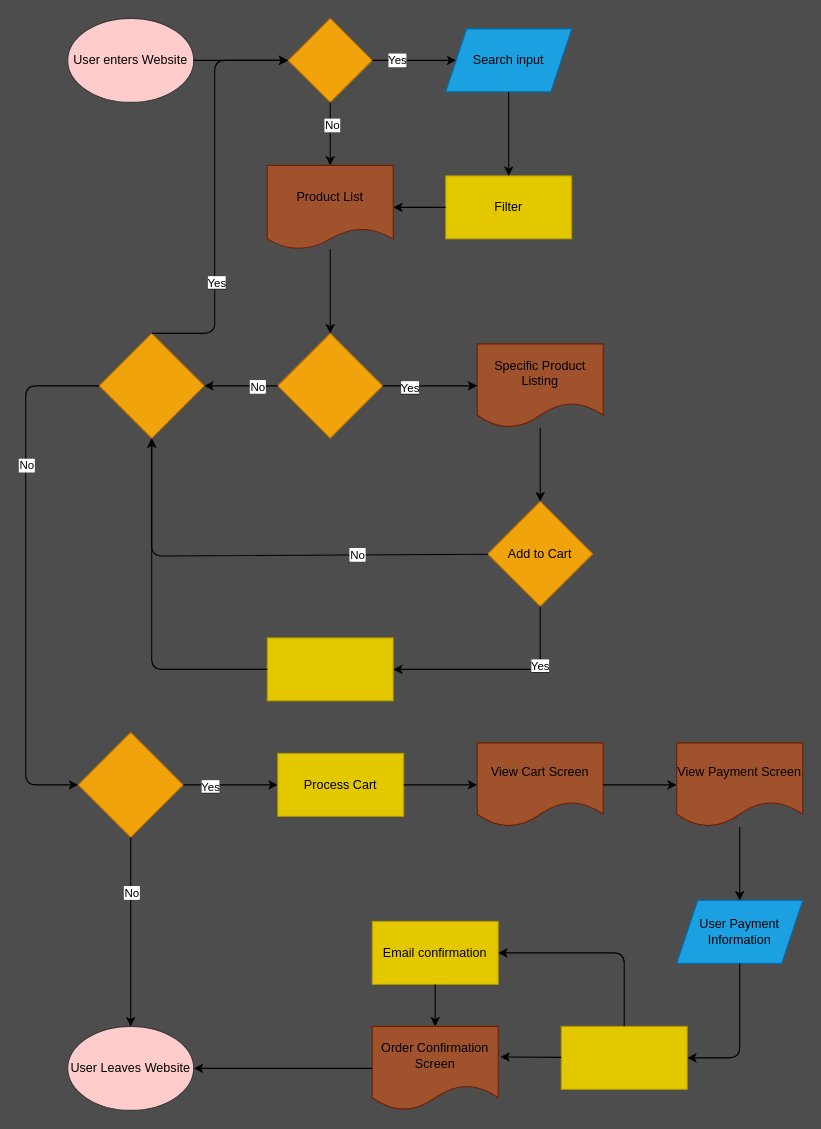
Image size: 821x1129. Some labels were removed from this diagram. The centre of each missing label's shape, as x and y in pixels:
"Checkout" belongs at point (130, 784).
"Continue Shopping" belongs at point (151, 385).
"Item Added to Cart w/ Confirmation" belongs at point (329, 669).
"Payment processed" belongs at point (623, 1057).
"Search" belongs at point (329, 59).
"View Specific Product" belongs at point (330, 385).
